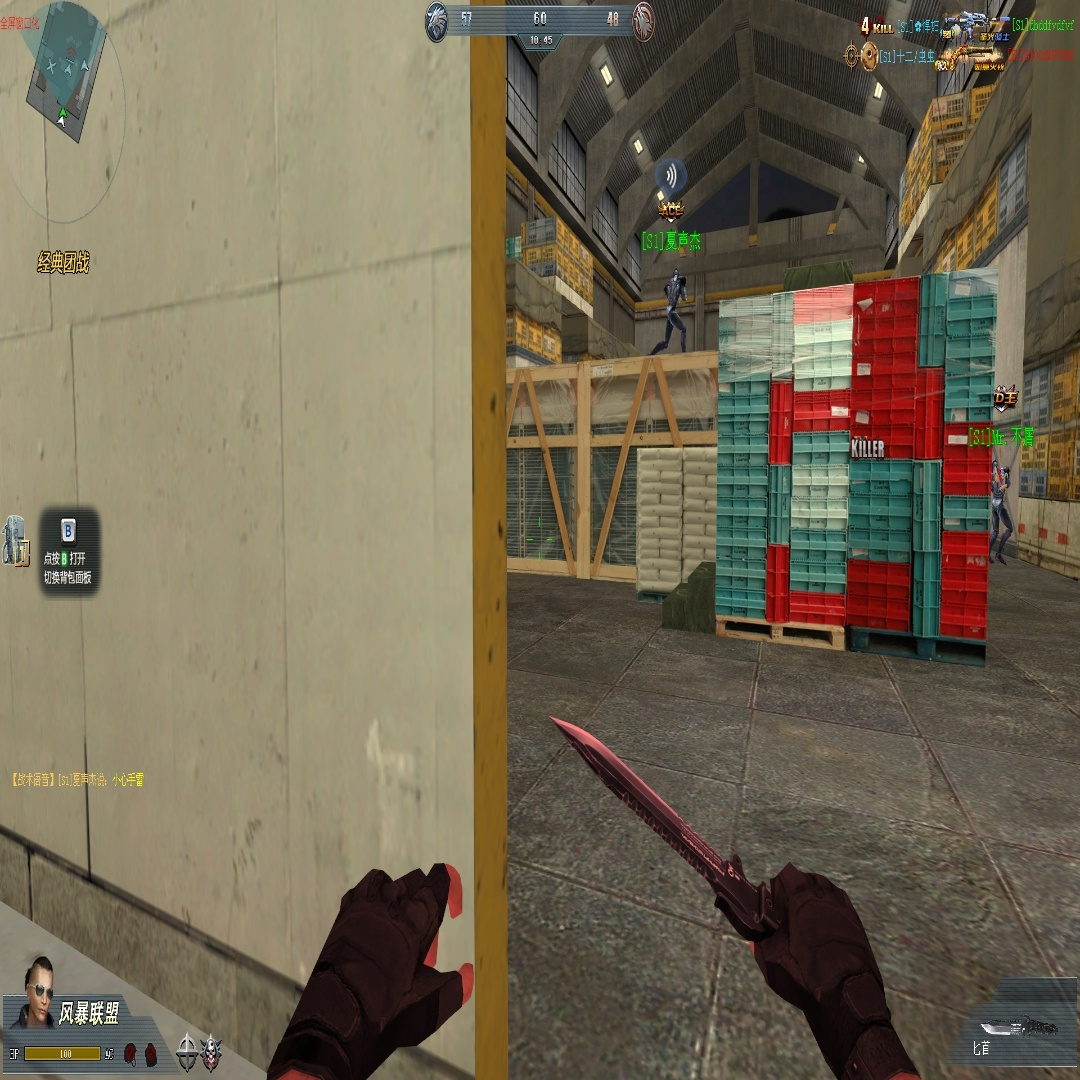ct: (657, 266, 690, 354)
